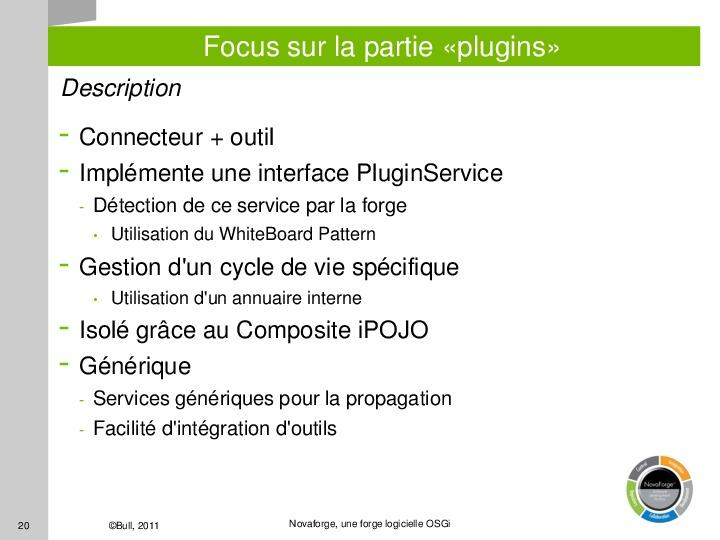paragraph: (59, 73, 596, 497)
title: (195, 27, 580, 81)
